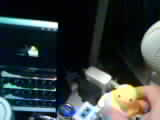duck: (94, 74, 138, 115)
